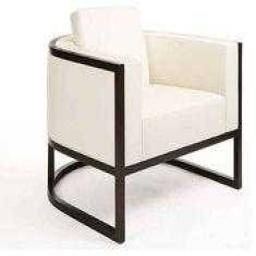Chair: (47, 5, 243, 245)
